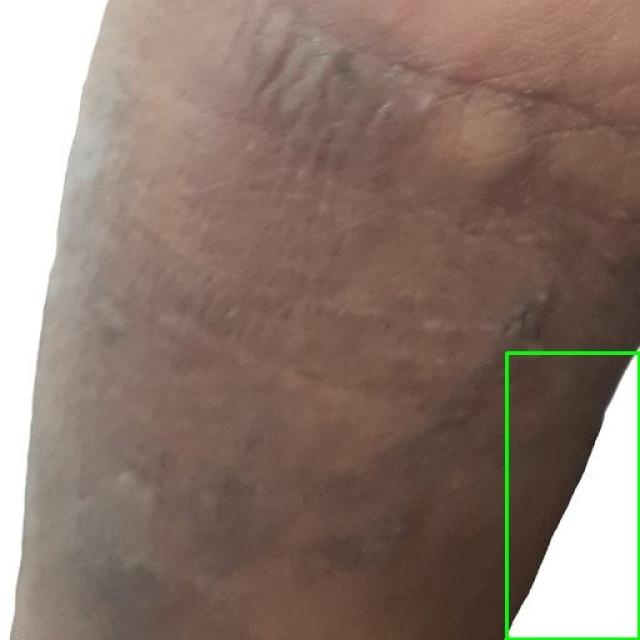Contact Dermatitis: (506, 352, 639, 639)
